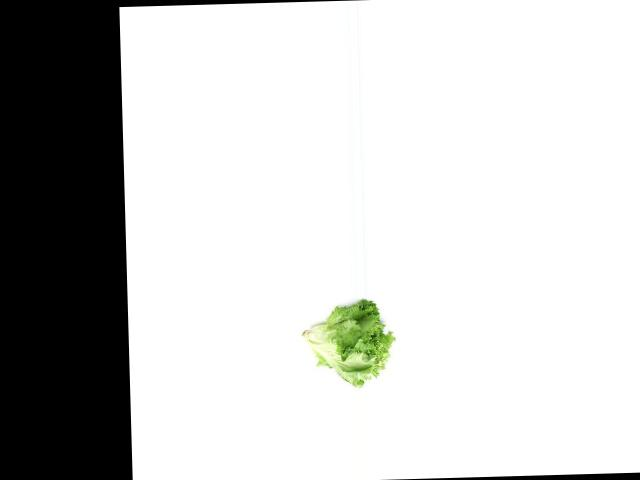lettuce: (300, 297, 394, 391)
